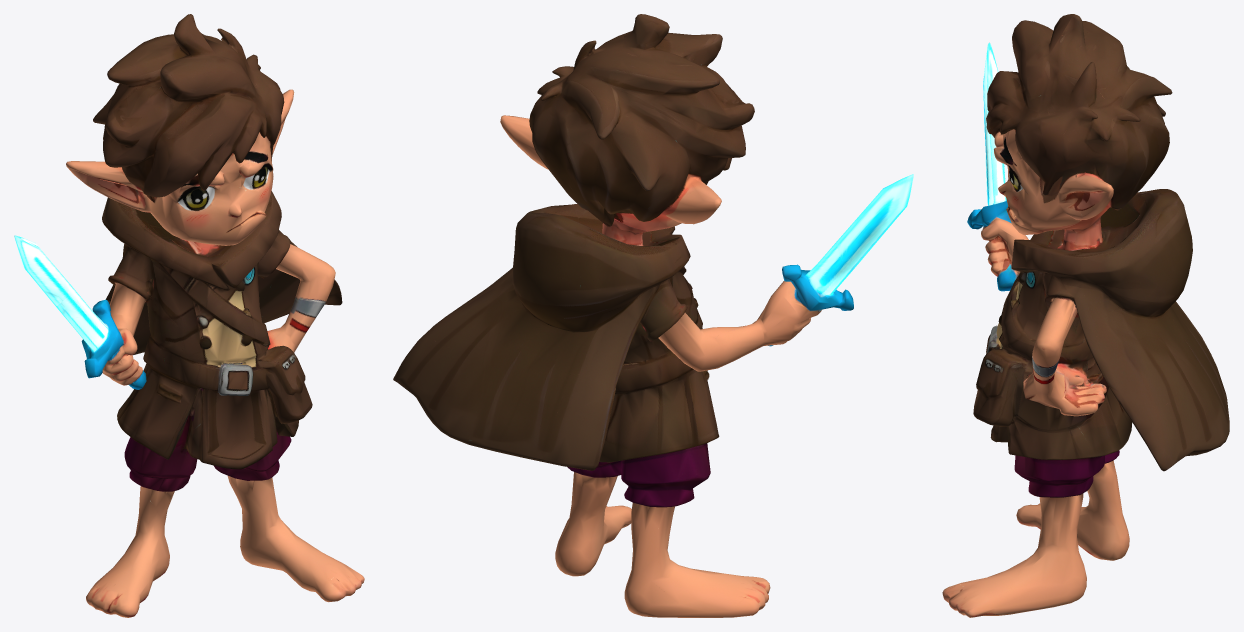
Rendered from milo.glb.
The picture shows the model from 3 angles, left to right: view 1: azimuth 30°, elevation 25°; view 2: azimuth 150°, elevation 25°; view 3: azimuth 270°, elevation 25°; orthographic projection. The views are drawn at different scales.
Bounding box in the file's own units: 1.48 × 1.91 × 0.9054.
1 material, 1 textured.
